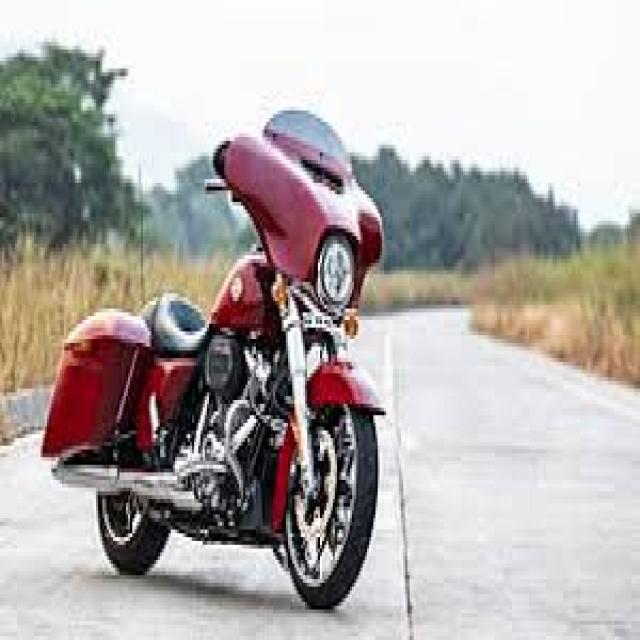bike: (43, 109, 385, 572)
